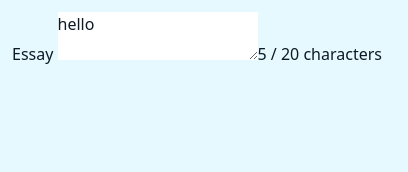
Test: LimitedTextarea › shows a live character count
Expected: the text "5 / 20 characters" is shown, left=258, top=43, right=382, bottom=65
Replace the text in the text box with "hello there" at coordinates (158, 36), box left=58, top=12, right=258, bottom=60
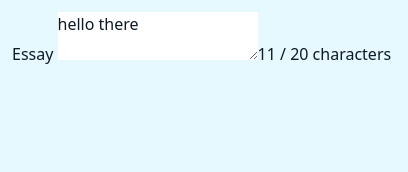
Result: the text "11 / 20 characters" is shown at left=258, top=43, right=391, bottom=65
